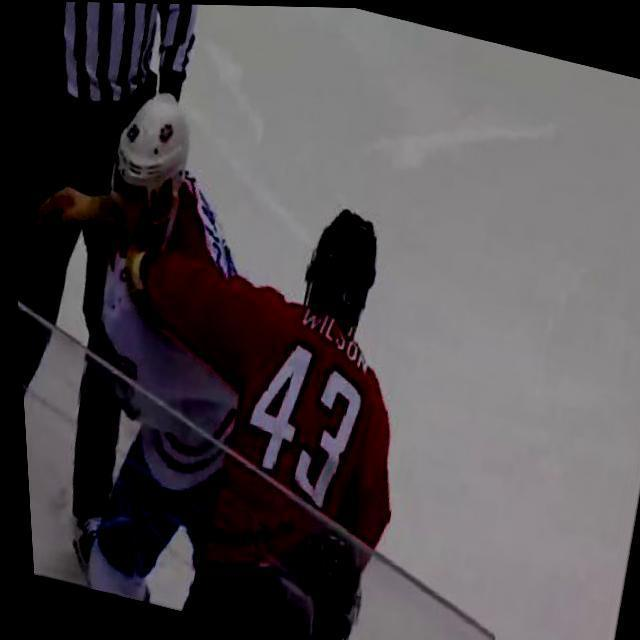fight: (3, 60, 473, 640)
